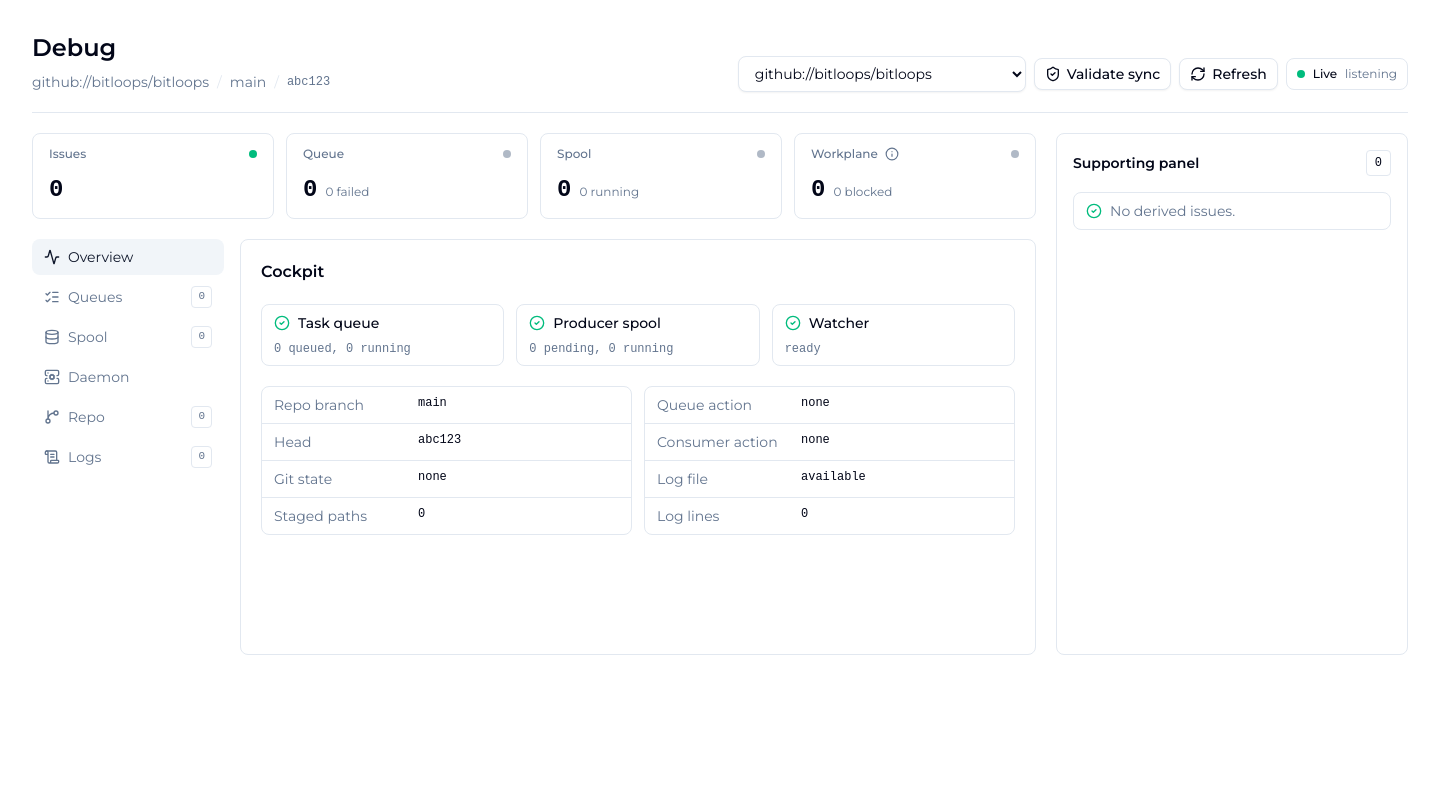
Scenario: Debug › queues validate sync from the debug header and refreshes the snapshot
The width and height of the screenshot is (1440, 810).
Click the button "Validate sync" at (1103, 74), box [1034,58,1171,90]
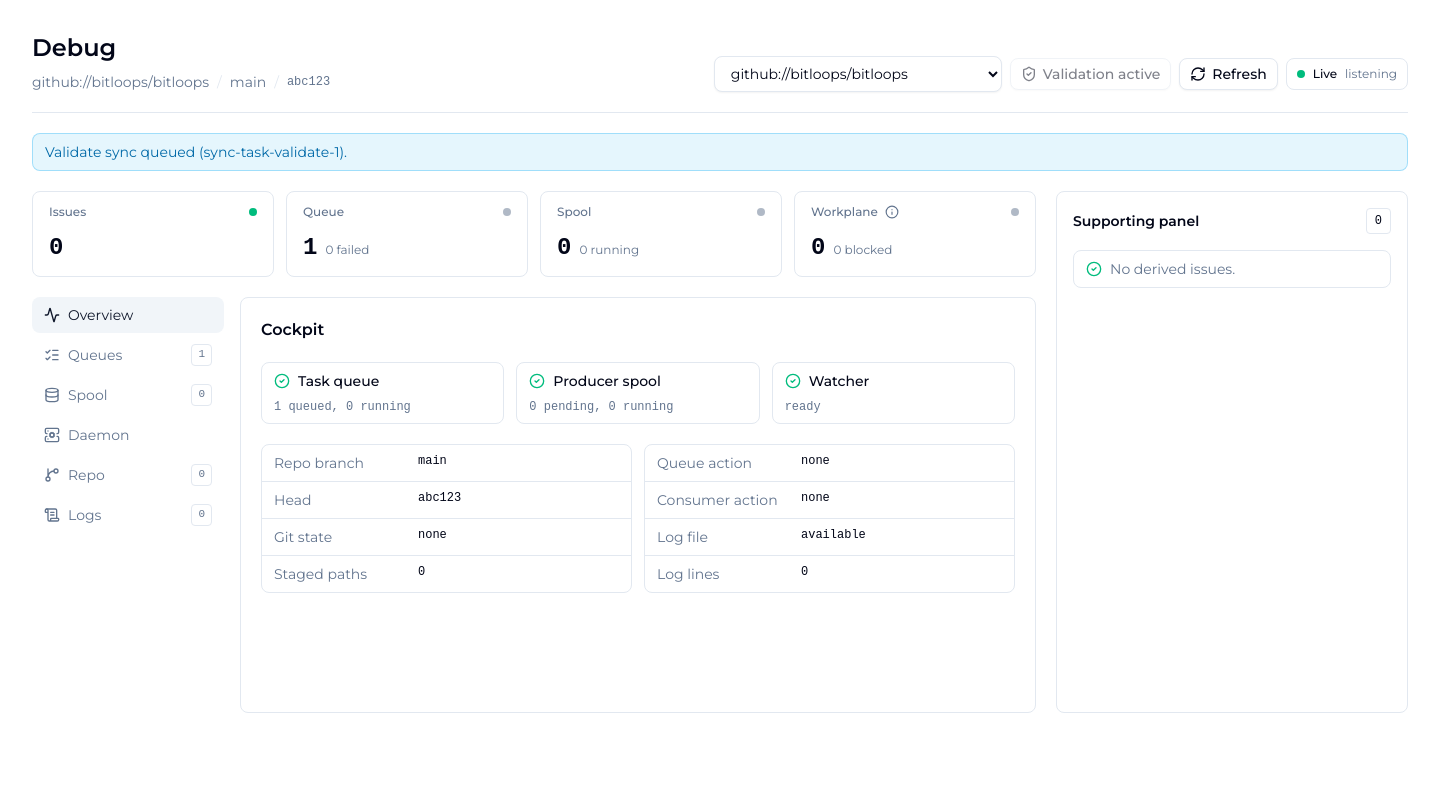
Result: the text "Validate sync queued (sync-task-validate-1)." is shown at [32,133,1408,171]
